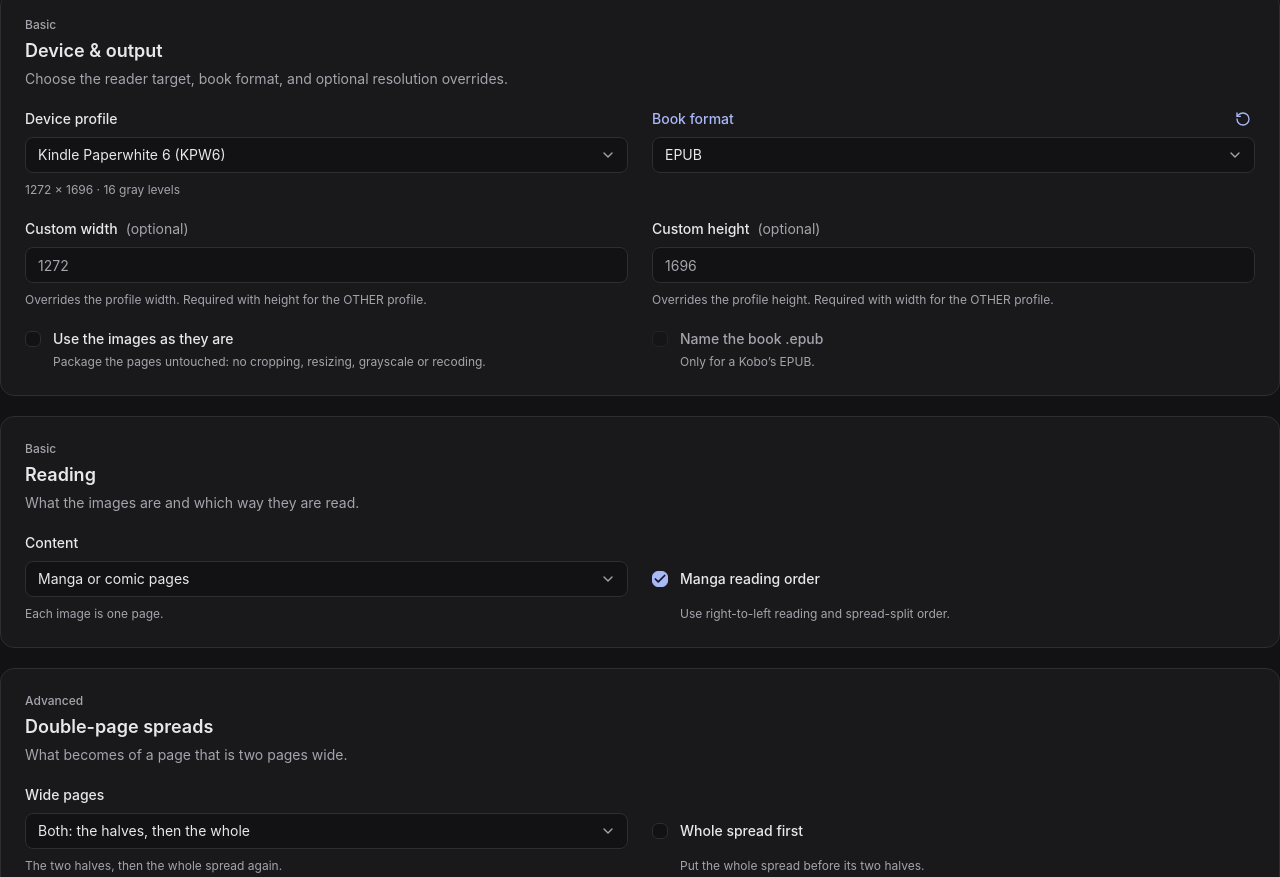
mangaprep settings editor › updates values and explains controls disabled by the current choices
Expected: the checkbox named "Whole spread first" next to "Whole spread first" is enabled, left=652, top=823, right=668, bottom=839
Step 1. Select "Split into two pages" in the dropdown labelled "Wide pages" → (326, 831), box left=25, top=813, right=628, bottom=849
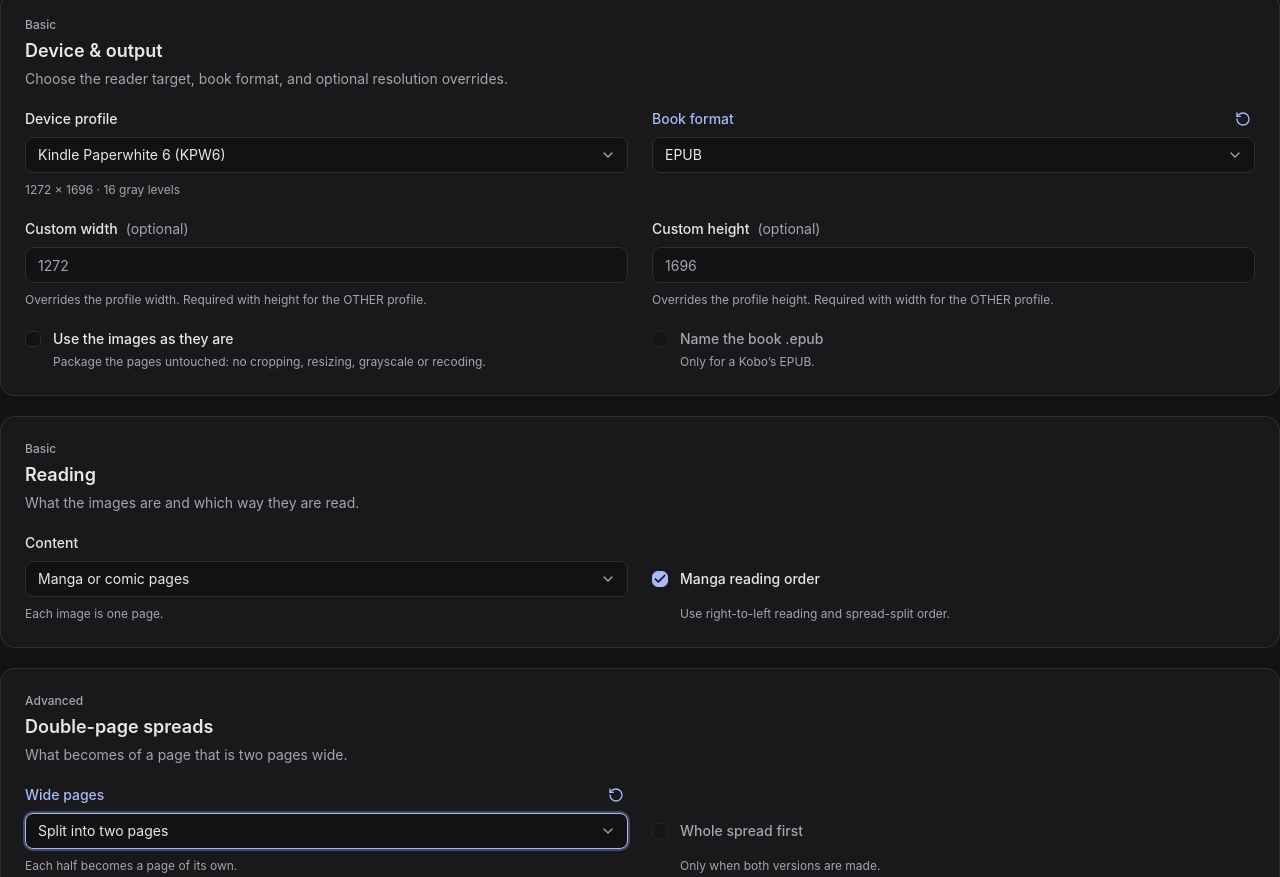
Expected: the text "Only when both versions are made." is shown, left=680, top=858, right=880, bottom=873
Step 2. Select "Keep whole, as one page" in the dropdown labelled "Wide pages" → (326, 831), box left=25, top=813, right=628, bottom=849
(page scrolled)
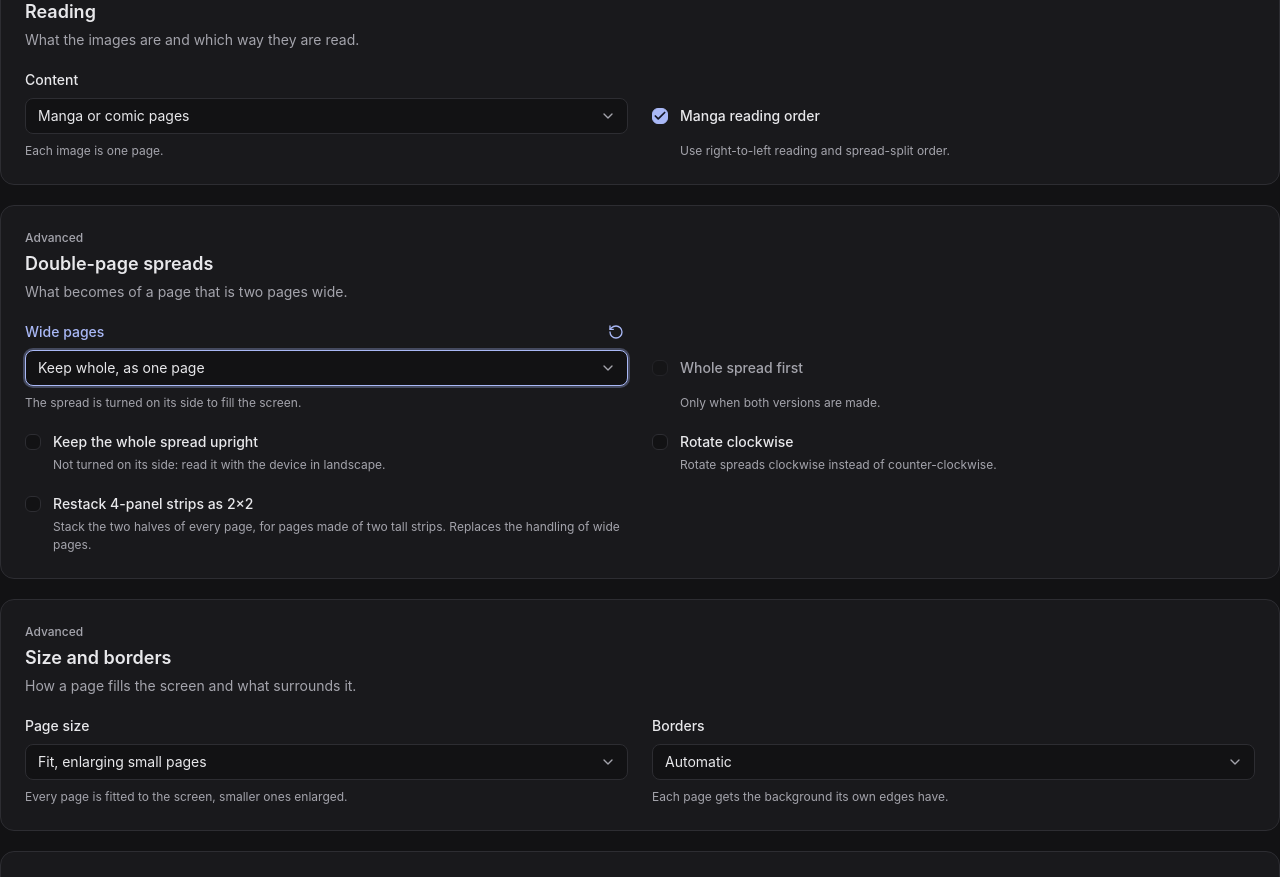
Step 3. Click the checkbox named "Rotate clockwise" next to "Rotate clockwise" → click(660, 442), box left=652, top=434, right=668, bottom=450
(page scrolled)
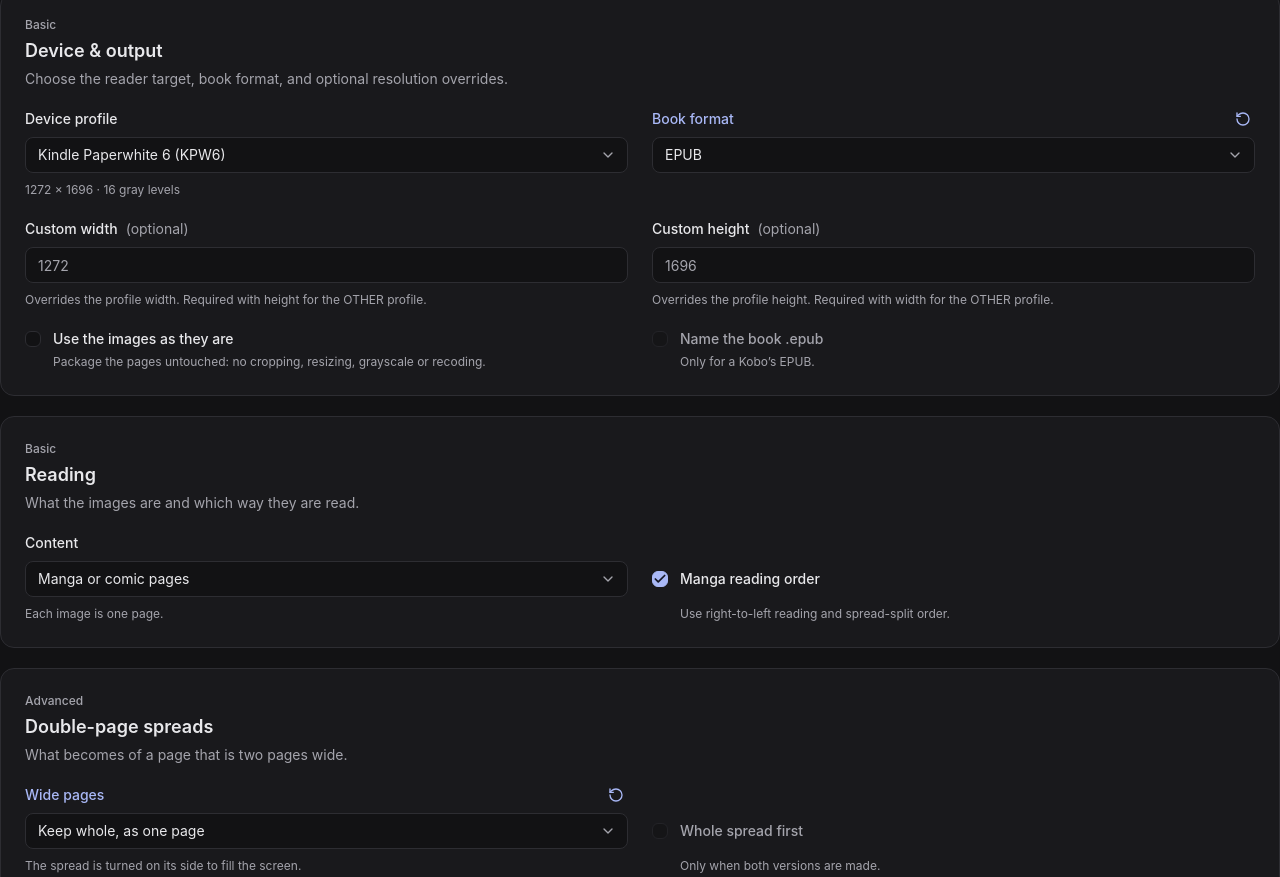
Step 4. Select "CBZ" in the dropdown labelled "Book format" → (954, 155), box left=652, top=137, right=1255, bottom=173
(page scrolled)
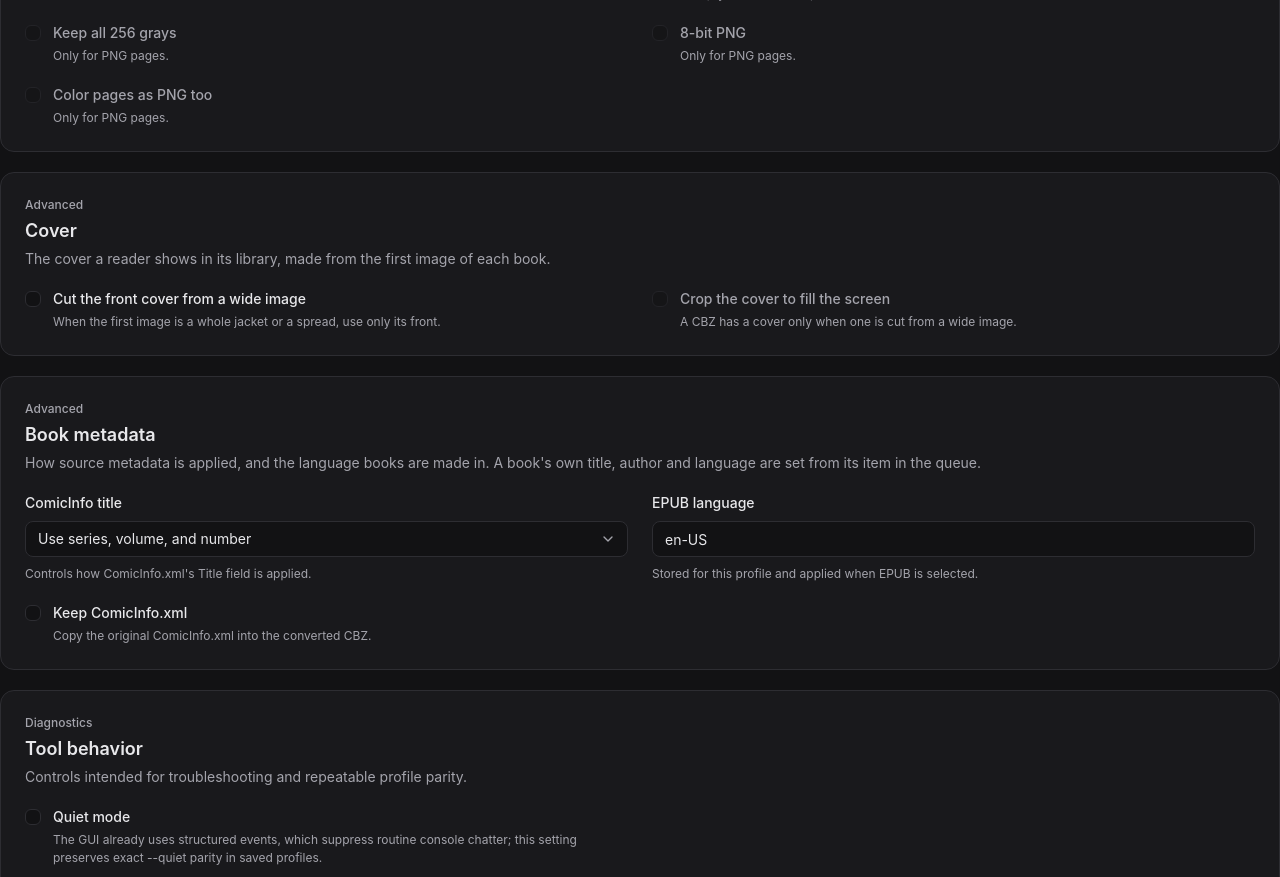
Step 5. Click the checkbox named "Keep ComicInfo.xml" next to "Keep ComicInfo.xml" → click(33, 613), box left=25, top=605, right=41, bottom=621
(page scrolled)
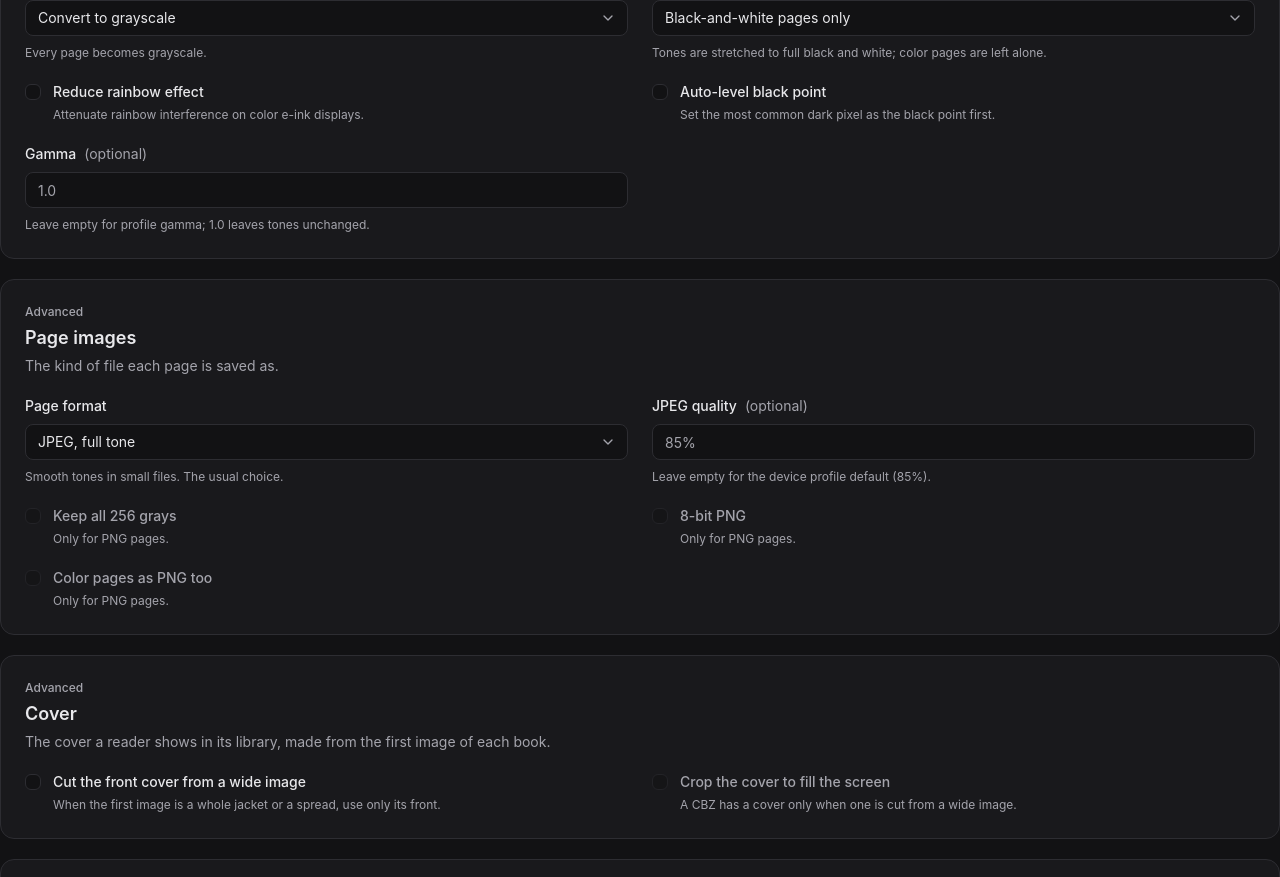
Step 6. Select "PNG, reduced to the screen’s grays" in the dropdown labelled "Page format" → (326, 442), box left=25, top=424, right=628, bottom=460
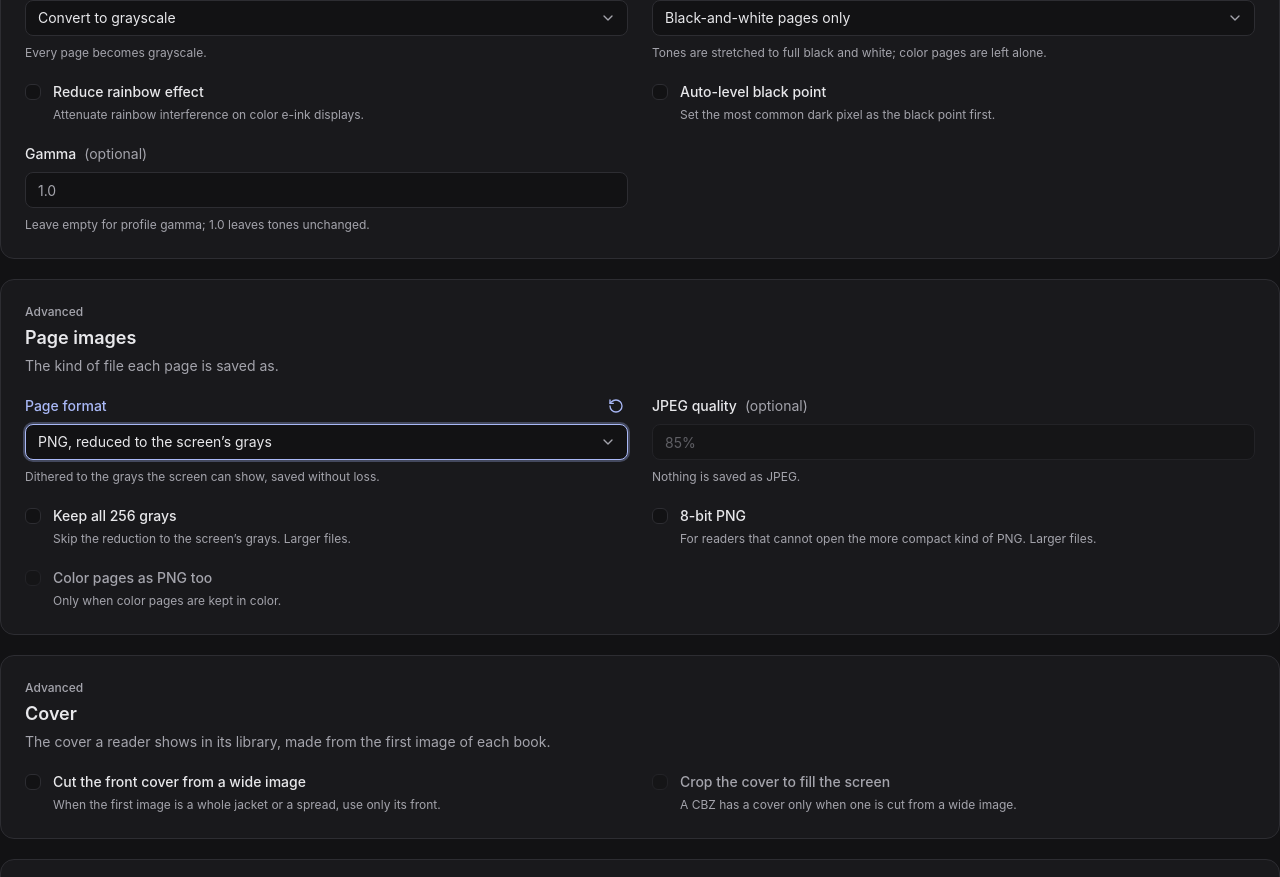
Expected: the number field labelled "JPEG quality (optional)" is disabled, left=652, top=424, right=1255, bottom=460
